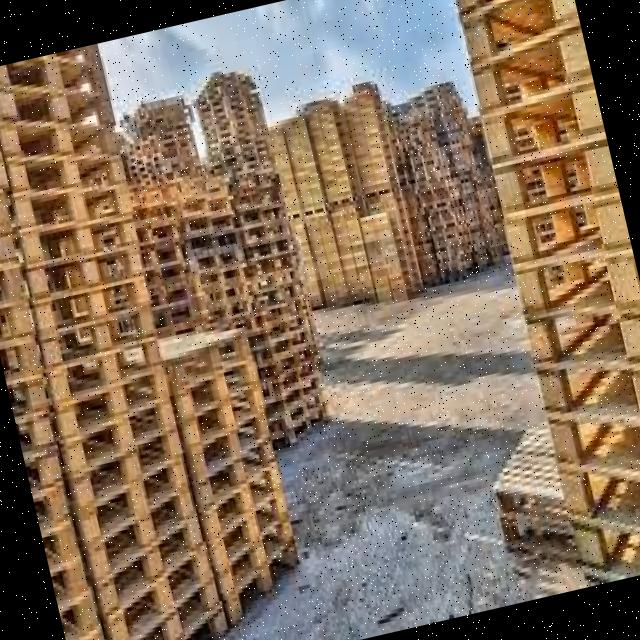Wooden-Pallets: (80, 445, 195, 560), (196, 458, 288, 548), (48, 340, 167, 406), (186, 374, 269, 447), (169, 322, 257, 383)
